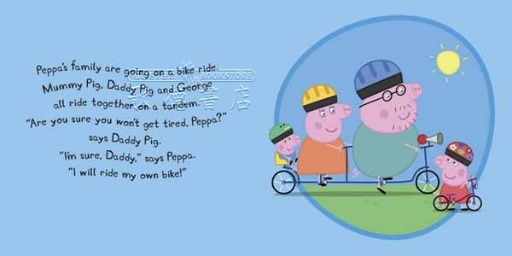Peppa: (432, 141, 478, 209)
